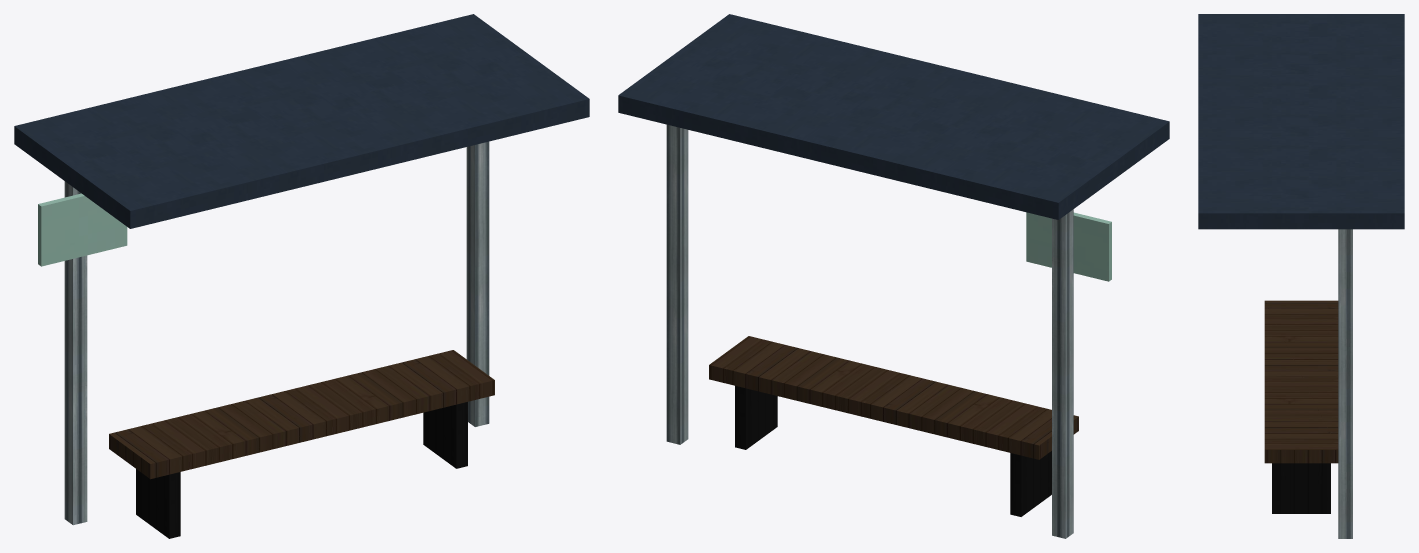
The model's file is bus_stop_01.glb.
3 views of the same model, side by side, from view 1: azimuth 30°, elevation 25°; view 2: azimuth 150°, elevation 25°; view 3: azimuth 270°, elevation 25° (orthographic). The views are drawn at different scales.
Parts seen in each view (by area): view 1: bus_stop_01; view 2: bus_stop_01; view 3: bus_stop_01.
Part boxes in pixels (box(x1,y1,x2,y2)): bus_stop_01: box(14, 14, 589, 538); bus_stop_01: box(618, 14, 1169, 538); bus_stop_01: box(1198, 14, 1404, 538).
Bounding box in the file's own units: 3.3 × 2.51 × 1.4.
5 materials, 5 textured.
